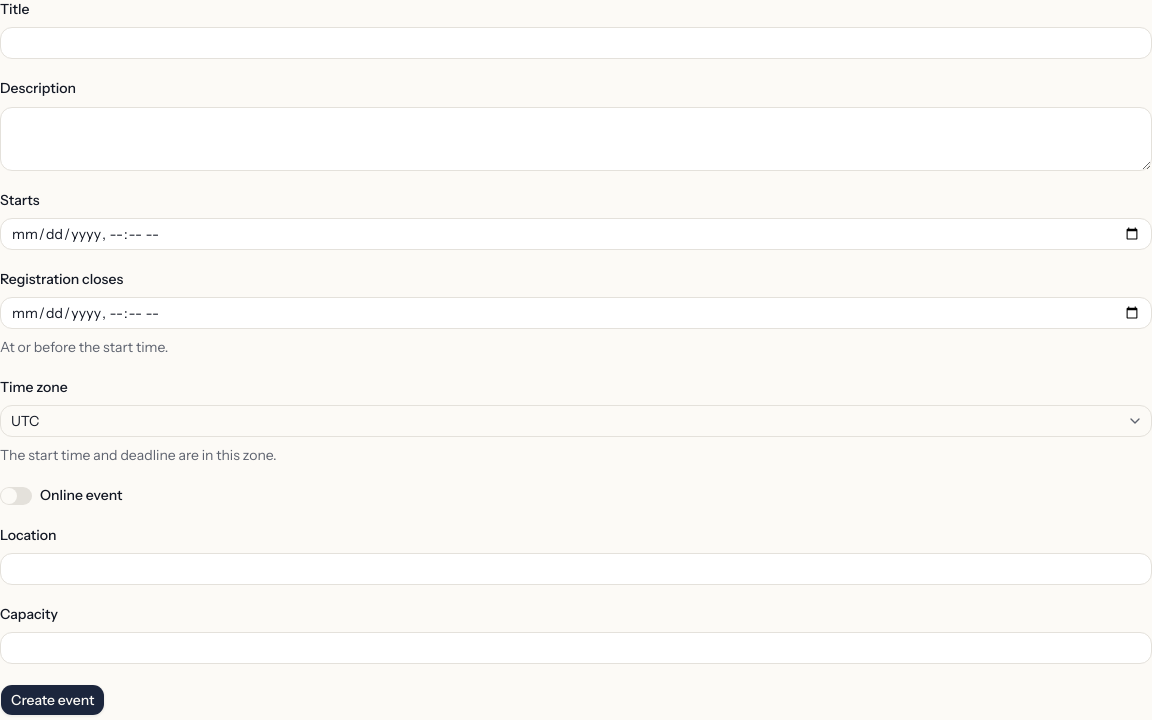
EventForm › shows a non-field server error in an alert
Type "Alumni reunion" into the field labelled "Title".
click(576, 43); type("Alumni reunion")  # box [0, 27, 1151, 59]
Type "The annual alumni reunion." into the text box labelled "Description".
click(576, 138); type("The annual alumni reunion.")  # box [0, 106, 1151, 170]
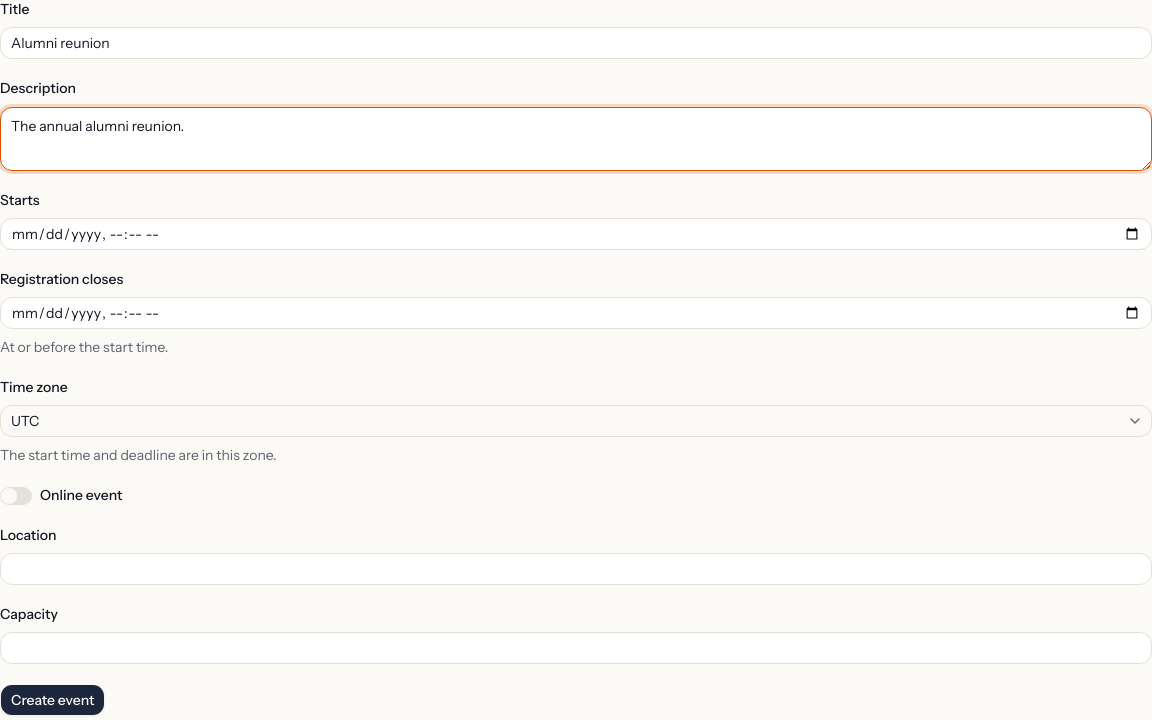
Type "2026-10-01T18:00" into the field labelled "Starts".
click(576, 234); type("2026-10-01T18:00")  # box [0, 218, 1151, 250]
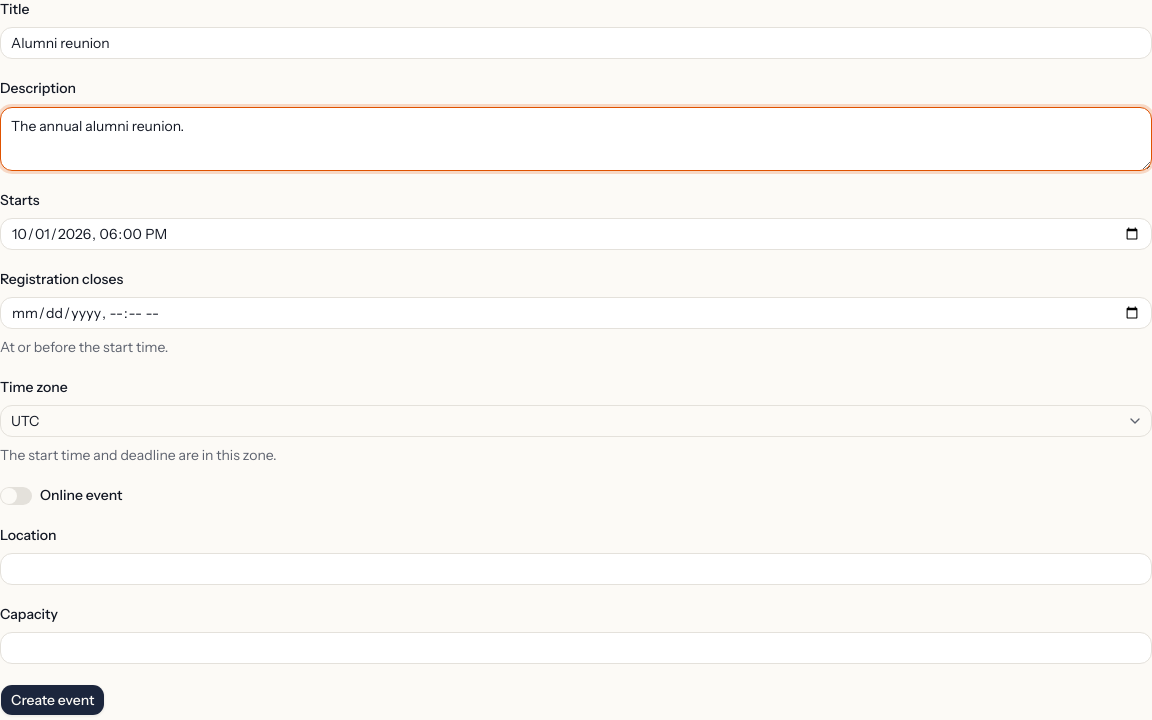
Type "2026-09-30T18:00" into the field labelled "Registration closes".
click(576, 313); type("2026-09-30T18:00")  # box [0, 297, 1151, 329]
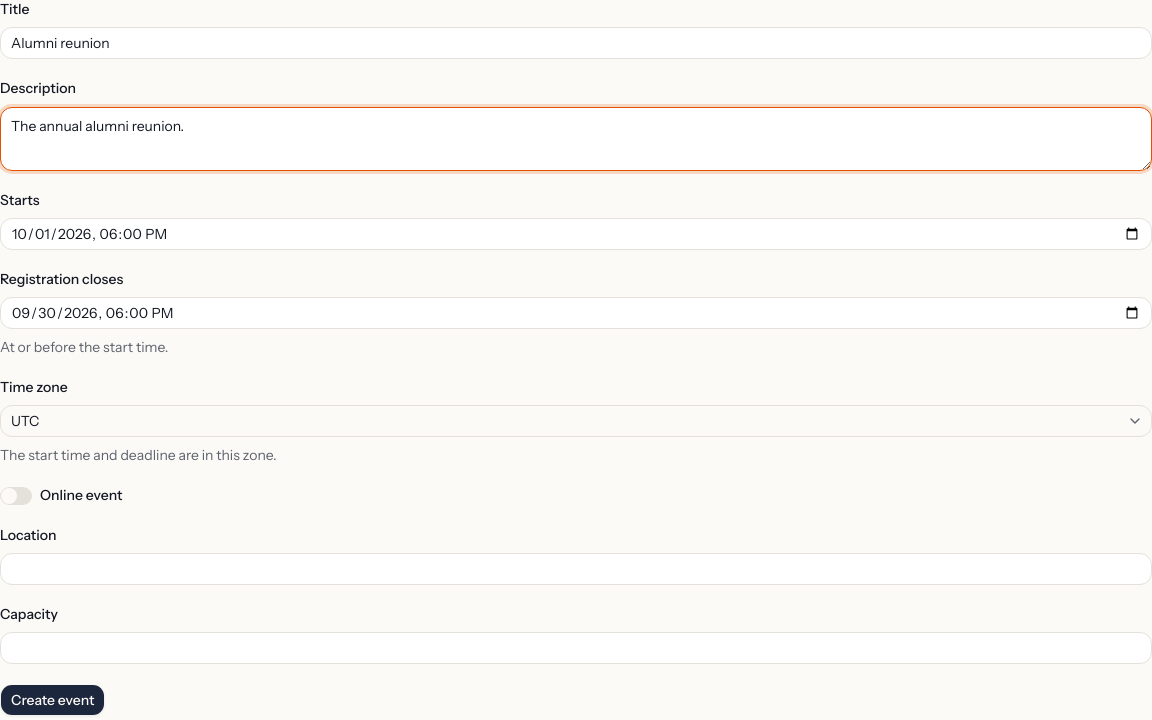
Type "Main hall" into the field labelled "Location".
click(576, 569); type("Main hall")  # box [0, 553, 1151, 585]
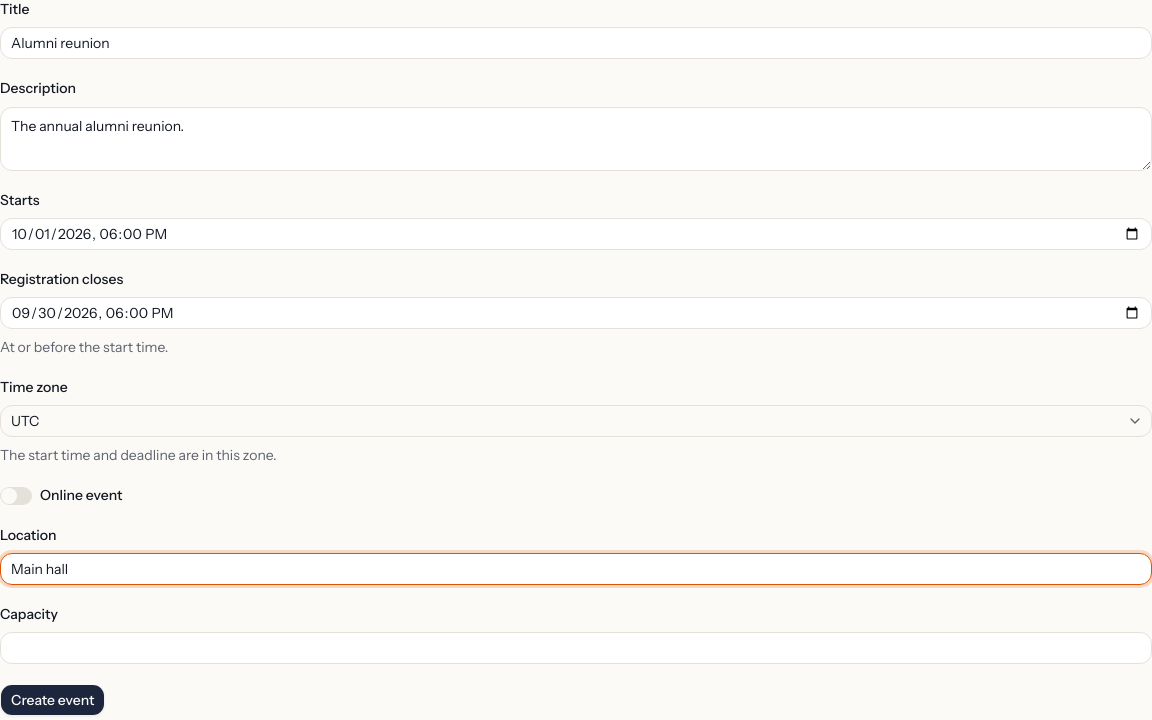
Type "100" into the number field labelled "Capacity".
click(576, 648); type("100")  # box [0, 632, 1151, 664]
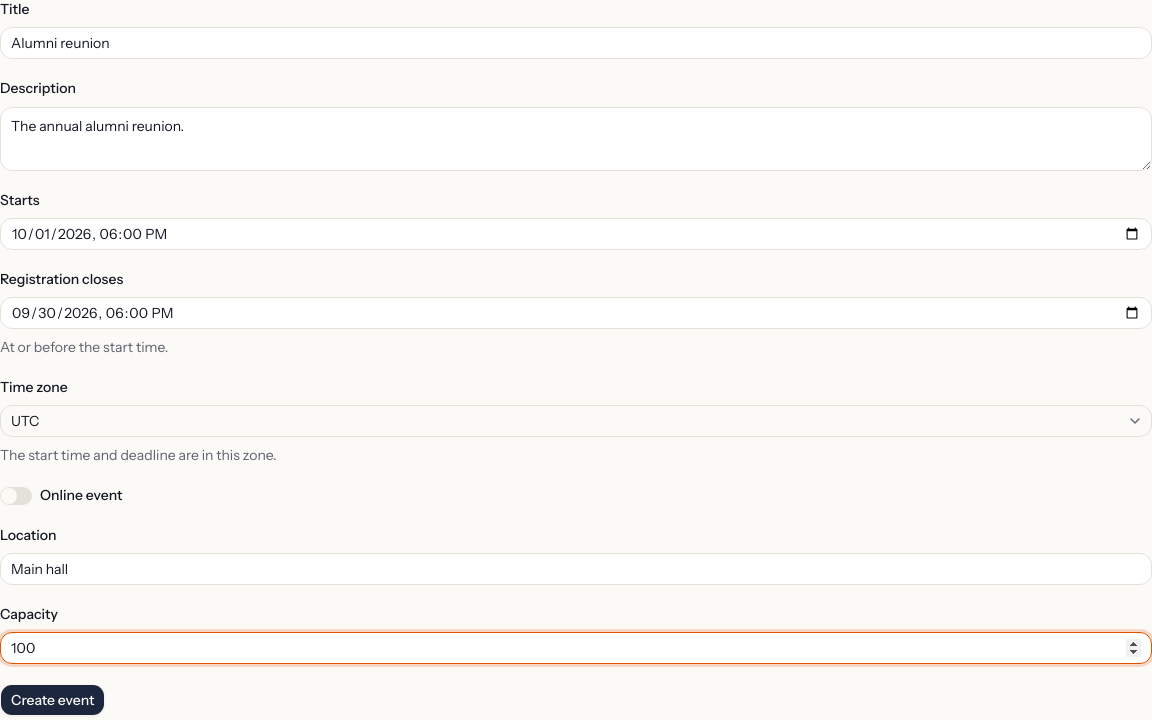
Click the button "Create event".
click(53, 700)  # box [0, 684, 105, 716]
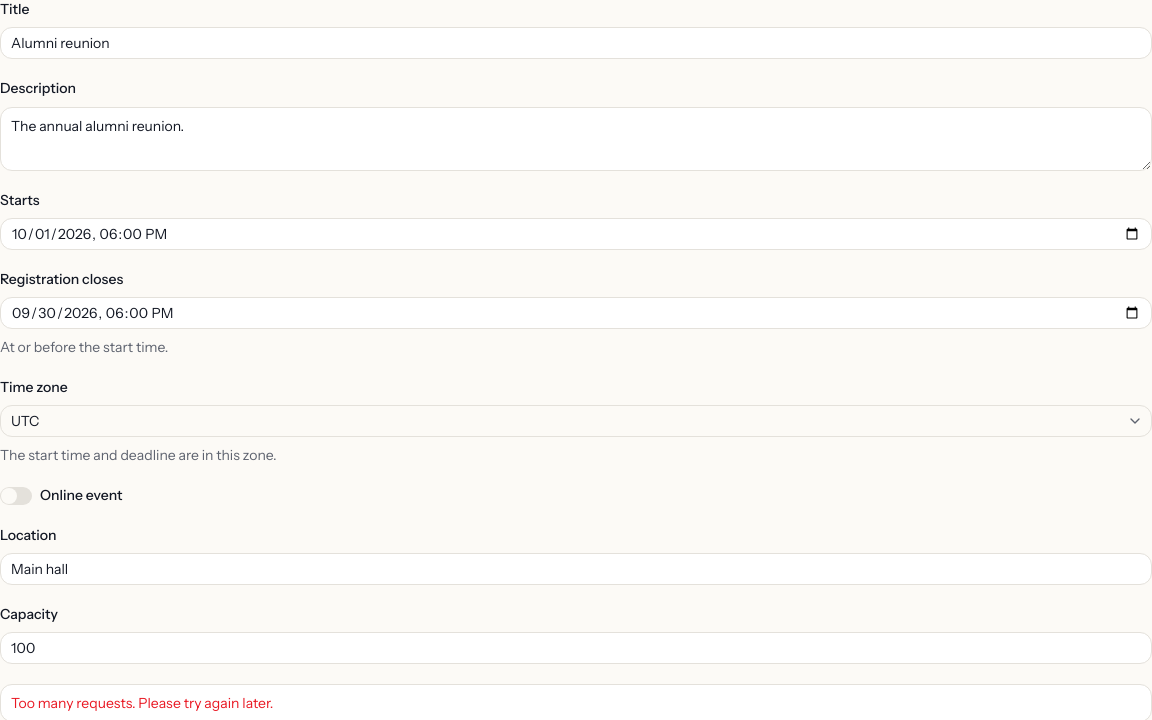
Check: the text "Too many requests. Please try again later." is shown, box [11, 694, 273, 712]
